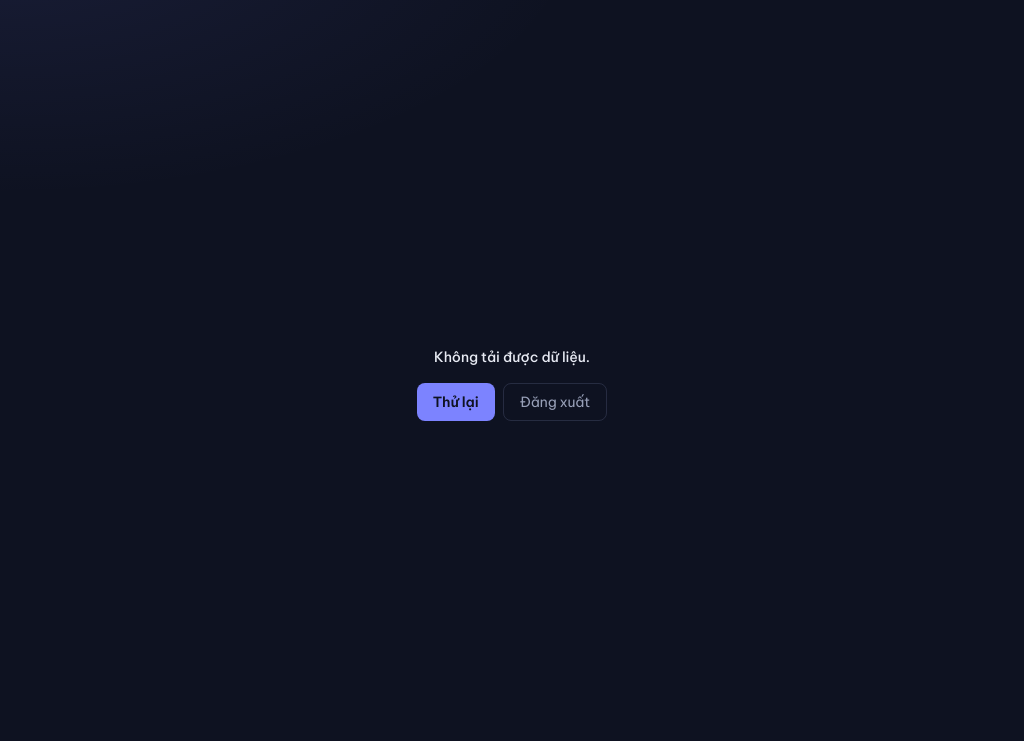
Test case: AuthGate › a failed load shows an error with a working retry button
expect the text "Không tải được dữ liệu." is shown: met, box [434,347,590,367]
Click the button "Thử lại" at (456, 402), box [417,383,495,421]
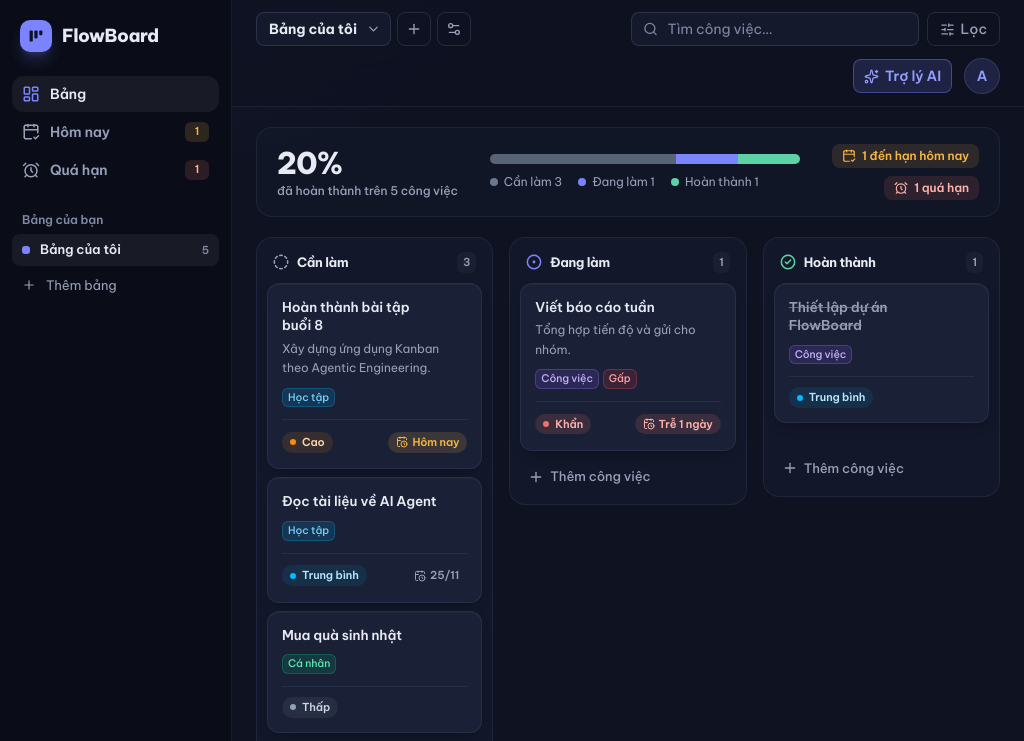
expect the text "Viết báo cáo tuần" is shown: met, box [535,298,654,316]
